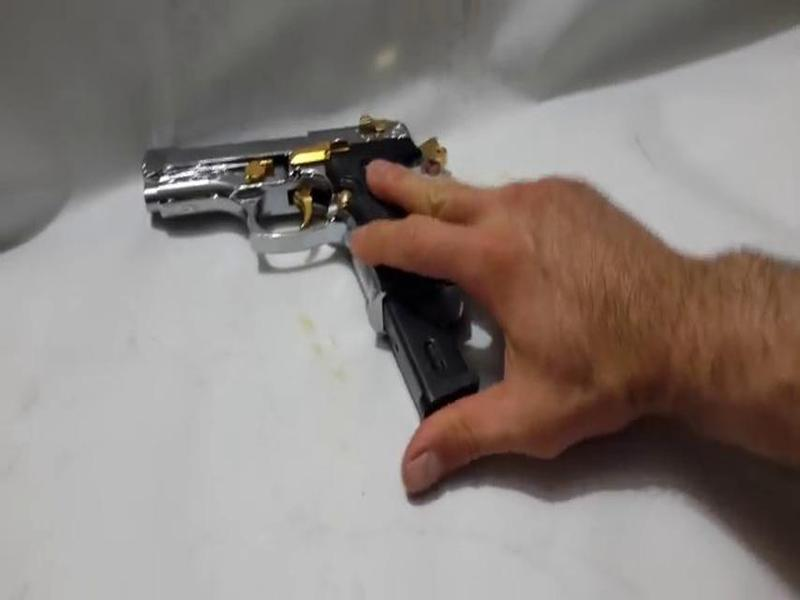Pistola: (127, 110, 492, 324)
